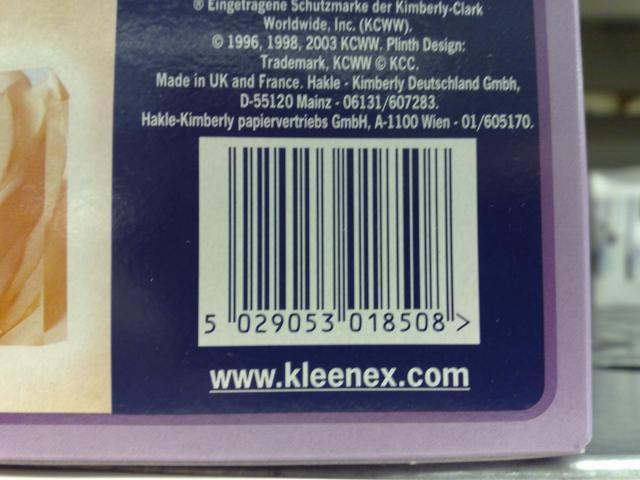Barcode: (197, 137, 482, 345)
